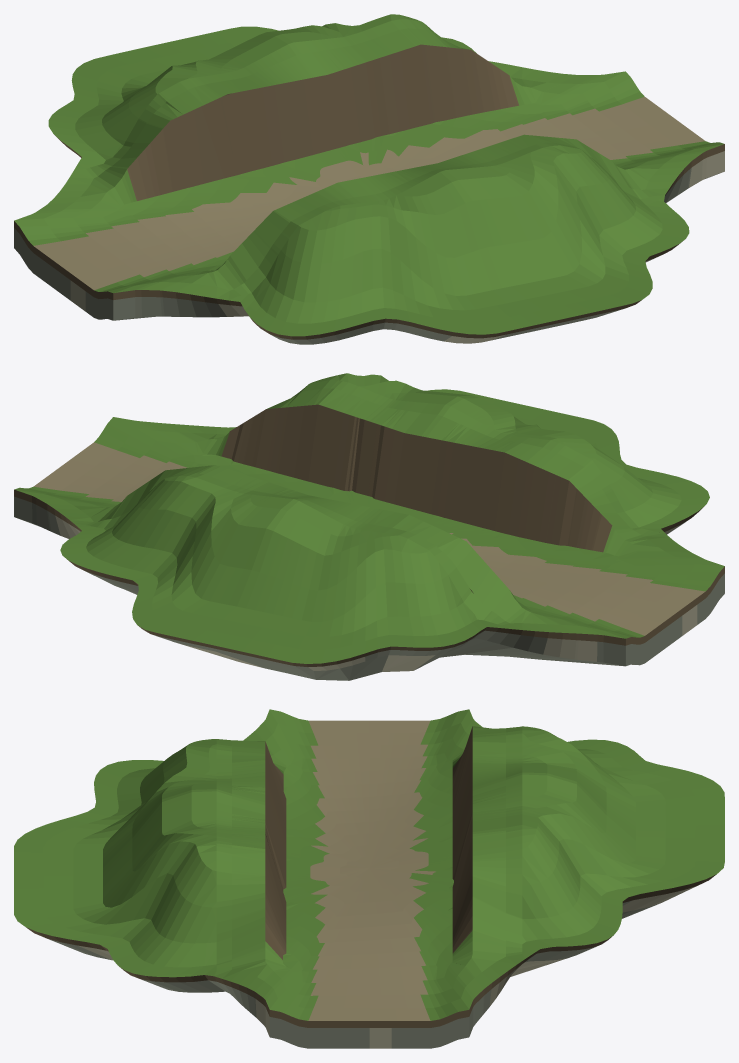
File: path_cliff_passage_structure.fbx
The picture shows the model from 3 angles, top to bottom: view 1: azimuth 30°, elevation 25°; view 2: azimuth 150°, elevation 25°; view 3: azimuth 270°, elevation 25°; orthographic projection.
Visible parts, largest first — view 1: chunk_path_cliff_passage; view 2: chunk_path_cliff_passage; view 3: chunk_path_cliff_passage.
Part boxes in pixels (bbox=[...]): chunk_path_cliff_passage: bbox=[14, 14, 724, 344]; chunk_path_cliff_passage: bbox=[14, 373, 724, 680]; chunk_path_cliff_passage: bbox=[14, 709, 724, 1048].
Size of the model in its own units: 256 by 79.23 by 256.
